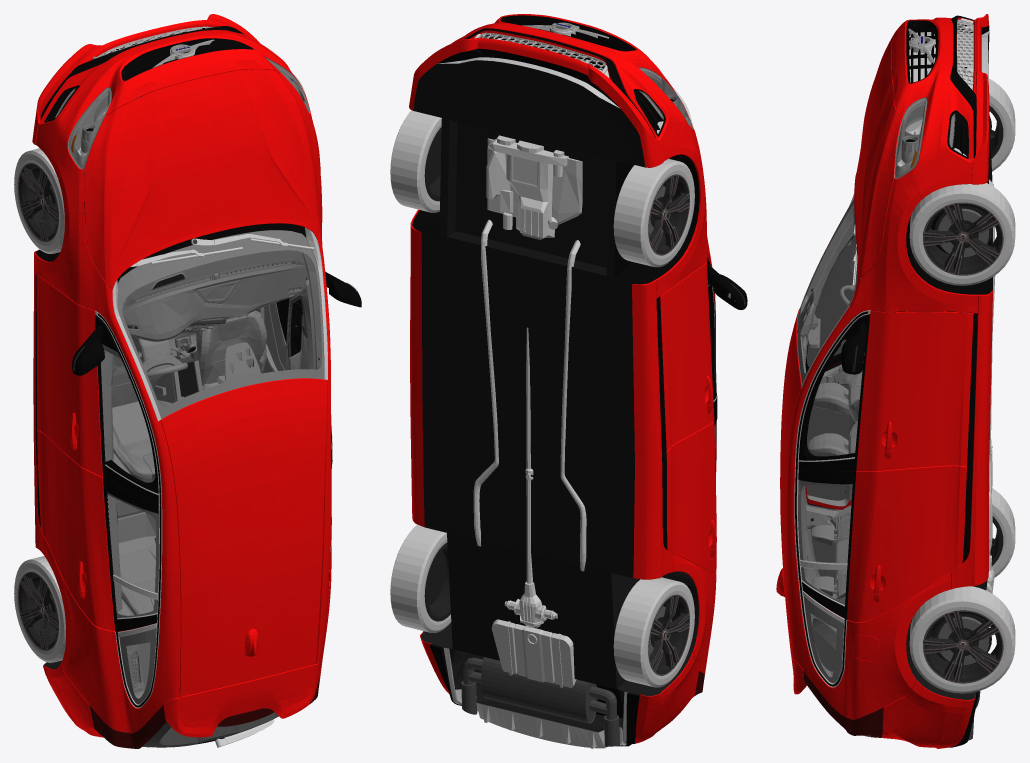
File: volvo_v60_converted.obj
3 renders of one model, left to right at view 1: azimuth 30°, elevation 25°; view 2: azimuth 150°, elevation 25°; view 3: azimuth 270°, elevation 25°, orthographic. The views are drawn at different scales.
Visible parts, largest first — view 1: chassis_carpaint_0, bonnet_ok_carpaint_0, windscreen_ok_glass_0, bump_front_ok_carpaint_0, torpeda_salon.7_0, door_lr_ok_carpaint_0, door_lf_ok_carpaint_0, chassis_chassis.4_0, sed_salon.5_0, boot_ok_carpaint_0, door_lf_ok_glass_0, door_lr_ok_glass_0 (+30 smaller); view 2: chassis_chassis.5_0, chassis_chassis.4_0, chassis_carpaint_0, bump_front_ok_carpaint_0, door_lf_ok_carpaint_0, door_lr_ok_carpaint_0, chassis_chassis.13_0, bump_front_ok_chassis.5_0, bump_front_ok_chassis.6_0, wheel.002_wheel.3_0, wheel.003_wheel.3_0, wheel.001_wheel.3_0 (+19 smaller); view 3: chassis_carpaint_0, door_rf_ok_carpaint_0, door_rr_ok_carpaint_0, bump_front_ok_carpaint_0, windscreen_ok_glass_0, bonnet_ok_carpaint_0, door_rr_ok_glass_0, door_rf_ok_glass_0, door_rf_ok_chassis.6_0, bump_rear_ok_carpaint_0, chassis_chassis.4_0, sed_torpeda.7_0 (+31 smaller).
Boxes of the visible parts, box(x1,y1,x2,y2) form: chassis_carpaint_0: box(33, 69, 331, 732); bonnet_ok_carpaint_0: box(84, 69, 320, 289); windscreen_ok_glass_0: box(117, 230, 323, 703); bump_front_ok_carpaint_0: box(32, 14, 305, 178); torpeda_salon.7_0: box(123, 250, 306, 398); door_lr_ok_carpaint_0: box(37, 429, 115, 631); door_lf_ok_carpaint_0: box(36, 274, 102, 476); chassis_chassis.4_0: box(115, 230, 329, 708); sed_salon.5_0: box(111, 311, 255, 612); boot_ok_carpaint_0: box(163, 663, 320, 737); door_lf_ok_glass_0: box(72, 344, 158, 493); door_lr_ok_glass_0: box(108, 493, 158, 617); chassis_chassis.5_0: box(413, 74, 644, 689); chassis_chassis.4_0: box(473, 135, 586, 687); chassis_carpaint_0: box(410, 126, 716, 673); bump_front_ok_carpaint_0: box(409, 14, 692, 167); door_lf_ok_carpaint_0: box(660, 262, 714, 450); door_lr_ok_carpaint_0: box(666, 421, 716, 573); chassis_chassis.13_0: box(461, 657, 619, 746); bump_front_ok_chassis.5_0: box(413, 60, 645, 166); bump_front_ok_chassis.6_0: box(437, 15, 665, 137); wheel.002_wheel.3_0: box(613, 577, 694, 687); wheel.003_wheel.3_0: box(613, 158, 694, 267); wheel.001_wheel.3_0: box(390, 524, 450, 633); chassis_carpaint_0: box(776, 121, 992, 719); door_rf_ok_carpaint_0: box(856, 310, 973, 471); door_rr_ok_carpaint_0: box(847, 465, 966, 622); bump_front_ok_carpaint_0: box(891, 14, 989, 199); windscreen_ok_glass_0: box(797, 199, 870, 736); bonnet_ok_carpaint_0: box(854, 34, 901, 281); door_rr_ok_glass_0: box(798, 480, 852, 604); door_rf_ok_glass_0: box(799, 340, 861, 460); door_rf_ok_chassis.6_0: box(795, 310, 977, 471); bump_rear_ok_carpaint_0: box(882, 680, 975, 748); chassis_chassis.4_0: box(797, 179, 995, 687); sed_torpeda.7_0: box(808, 371, 862, 600).
Bounding box in the file's own units: 2.13 × 4.85 × 1.54.
